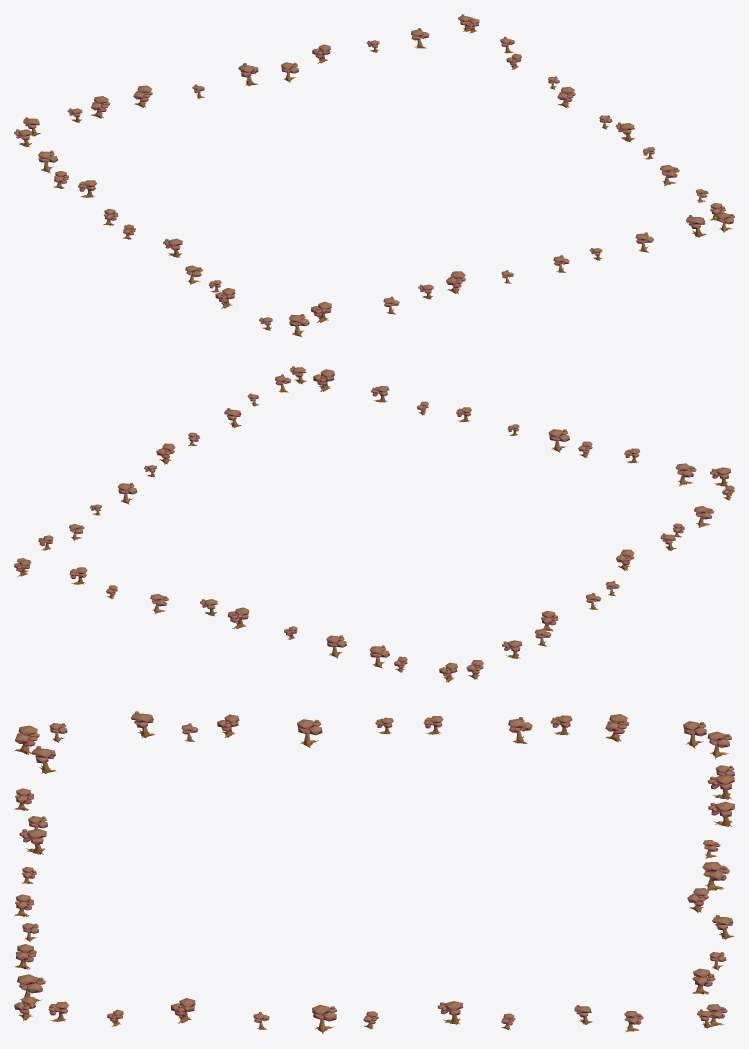
File: vegetation-arbres.glb
3 renders of one model, top to bottom at view 1: azimuth 30°, elevation 25°; view 2: azimuth 150°, elevation 25°; view 3: azimuth 270°, elevation 25°, orthographic. The views are drawn at different scales.
Parts seen in each view (by area): view 1: plat; view 2: plat; view 3: plat.
Part boxes in pixels (x1,y1,x2,y2): plat: (14, 14, 734, 336); plat: (14, 366, 734, 682); plat: (14, 711, 734, 1033).
Size of the model in its own units: 191 by 7.4 by 191.
1 material, 1 textured.
